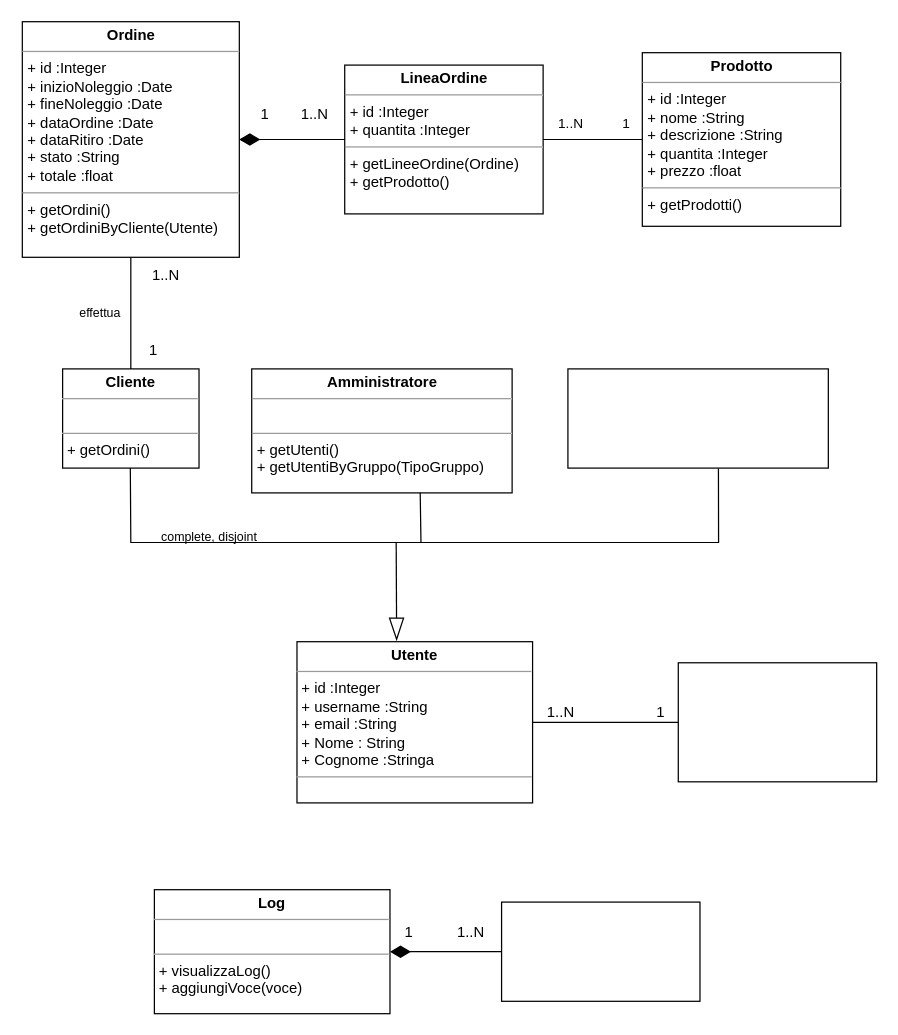
This 898x1035 diagram has some shape labels left out. Here are the shapes that lost their labels. From the top down, the centre of each, then its label:
(x=697, y=418): Proprietario + getOrdini()
(x=777, y=722): <<enumerazione>> TipoGruppo + CLIENTE + PROPRIETARIO + AMMINISTRATORE
(x=600, y=951): Voce - dataOra :DateTime - messaggio: String
